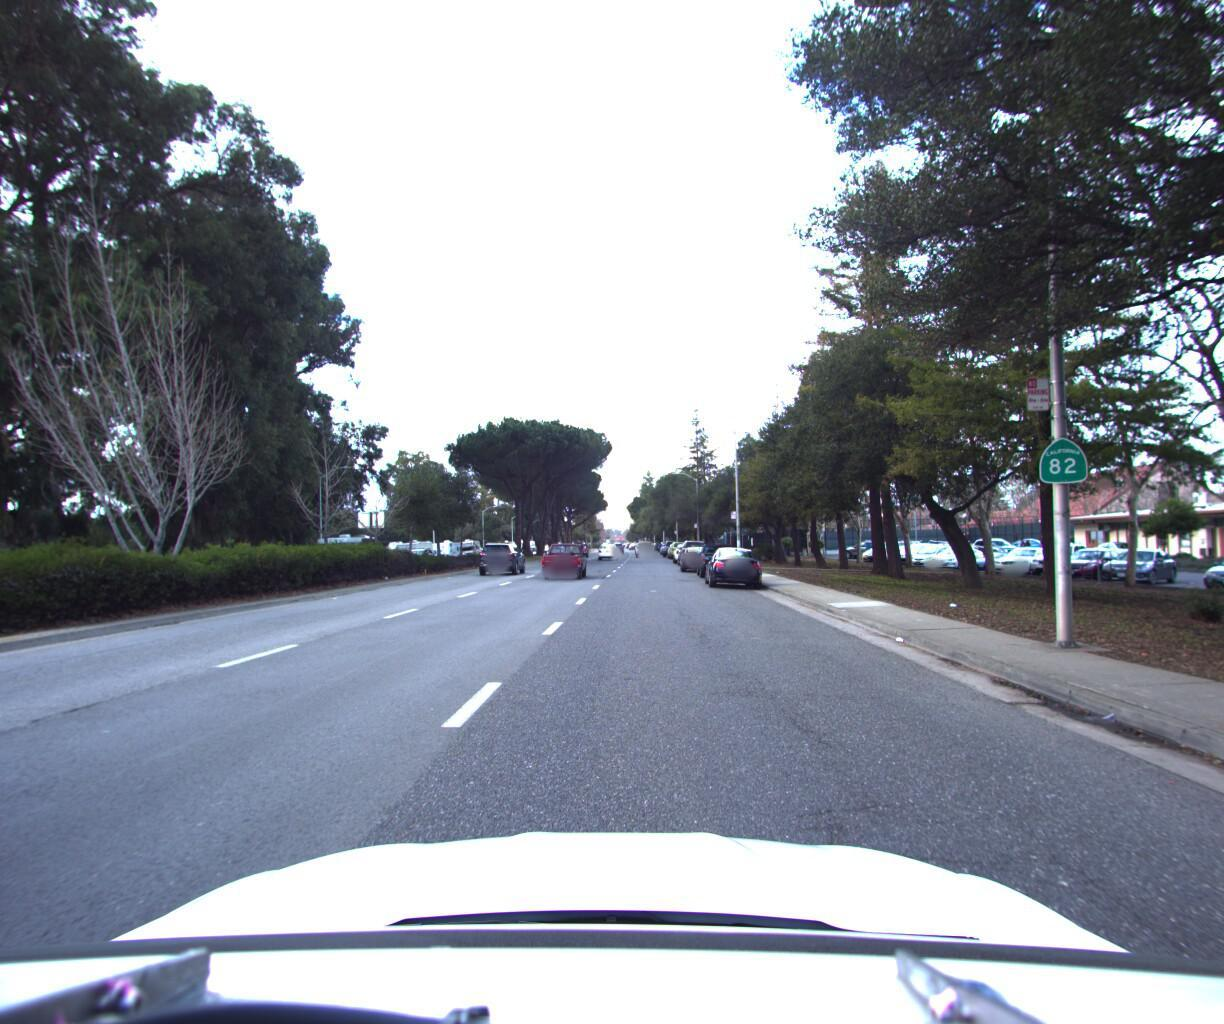car: (700, 540, 763, 587), (533, 537, 585, 577), (477, 537, 530, 573), (693, 537, 739, 573), (676, 541, 712, 568), (670, 535, 695, 559), (597, 536, 619, 557), (661, 535, 684, 554), (636, 534, 653, 551)
other_vehicle: (318, 528, 376, 558)
